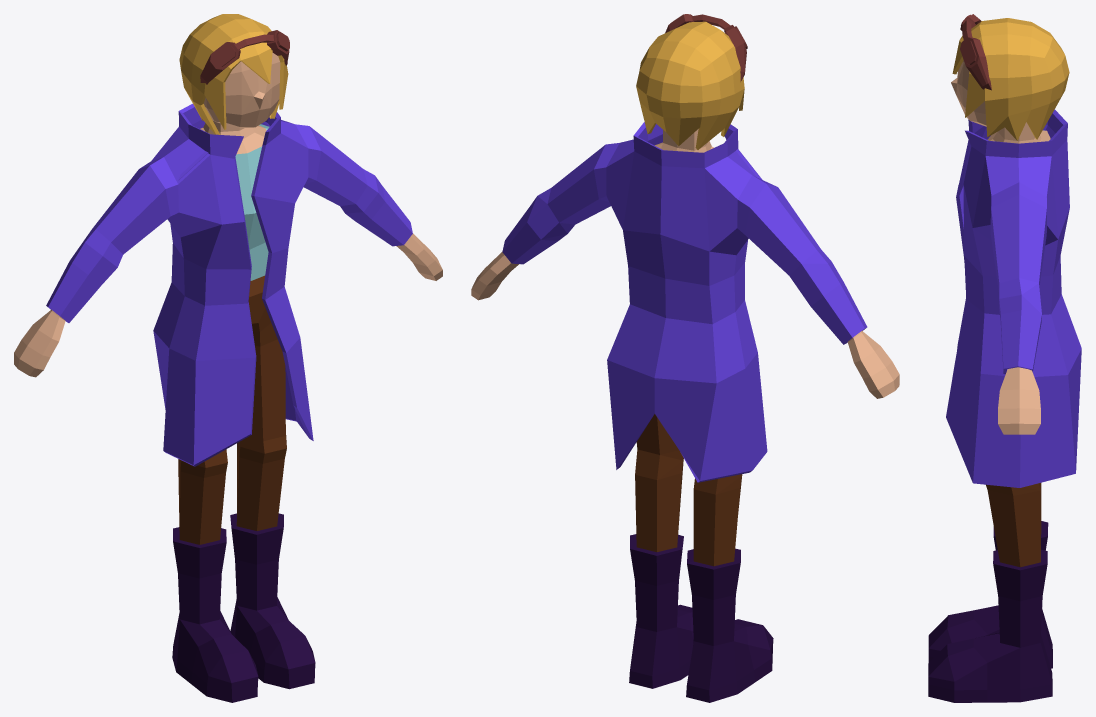
File: Jack.fbx
The picture shows the model from 3 angles, left to right: view 1: azimuth 30°, elevation 25°; view 2: azimuth 150°, elevation 25°; view 3: azimuth 270°, elevation 25°; orthographic projection.
Visible parts, largest first — view 1: Jacket, Body, Hair, Head, Glasses; view 2: Jacket, Body, Hair, Glasses; view 3: Jacket, Body, Hair, Glasses, Head.
Boxes of the visible parts, box(x1,y1,x2,y2) form: Jacket: box(46, 103, 412, 466); Body: box(14, 121, 442, 702); Hair: box(179, 14, 288, 134); Head: box(203, 52, 280, 127); Glasses: box(200, 30, 289, 84); Jacket: box(502, 122, 867, 482); Body: box(471, 129, 899, 702); Hair: box(636, 21, 744, 149); Glasses: box(665, 14, 747, 81); Jacket: box(946, 109, 1081, 487); Body: box(928, 122, 1052, 702); Hair: box(952, 18, 1069, 140); Glasses: box(960, 14, 991, 90); Head: box(951, 60, 986, 126).
Size of the model in its own units: 139 by 204 by 43.35.
